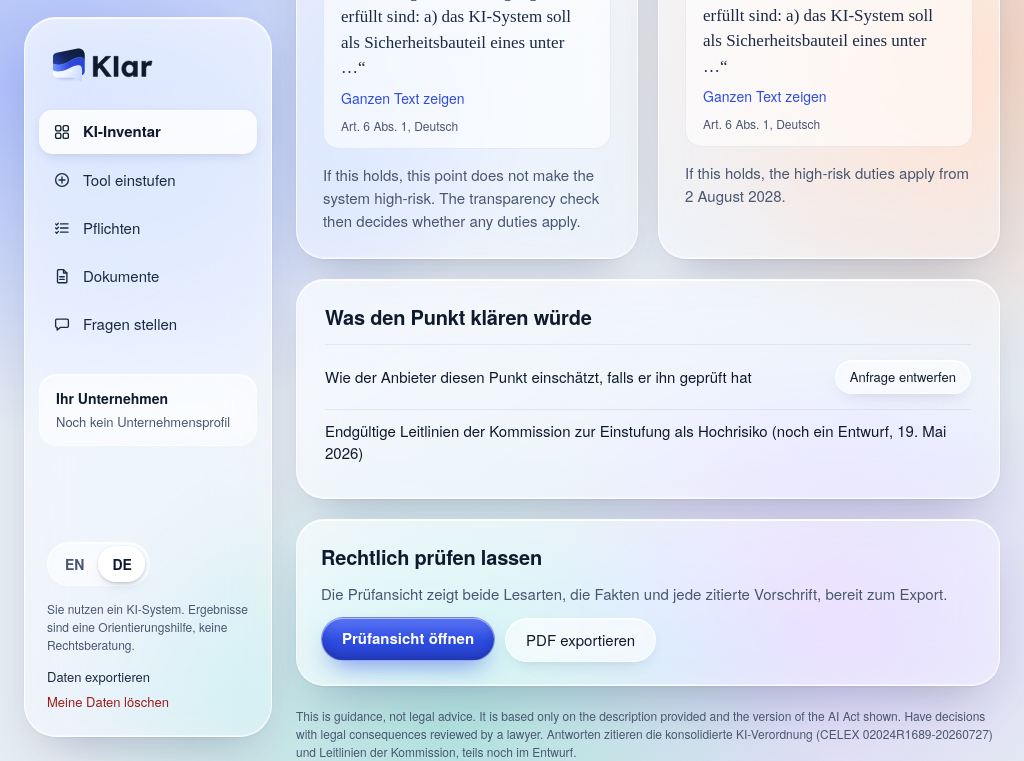
A legally ambiguous result (de) › says when the browser refuses to copy the request
(page scrolled)
Click the button "Anfrage entwerfen" at coordinates (903, 377), box left=835, top=360, right=971, bottom=394
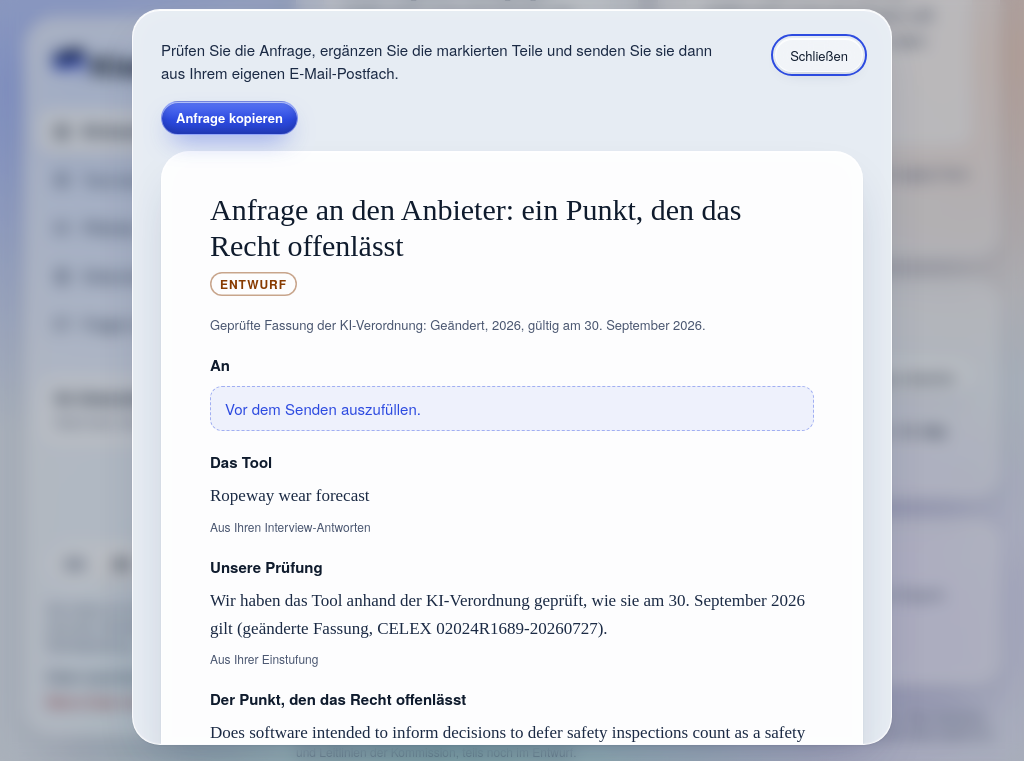
Click the button "Anfrage kopieren" at coordinates (229, 118), box left=161, top=100, right=298, bottom=134
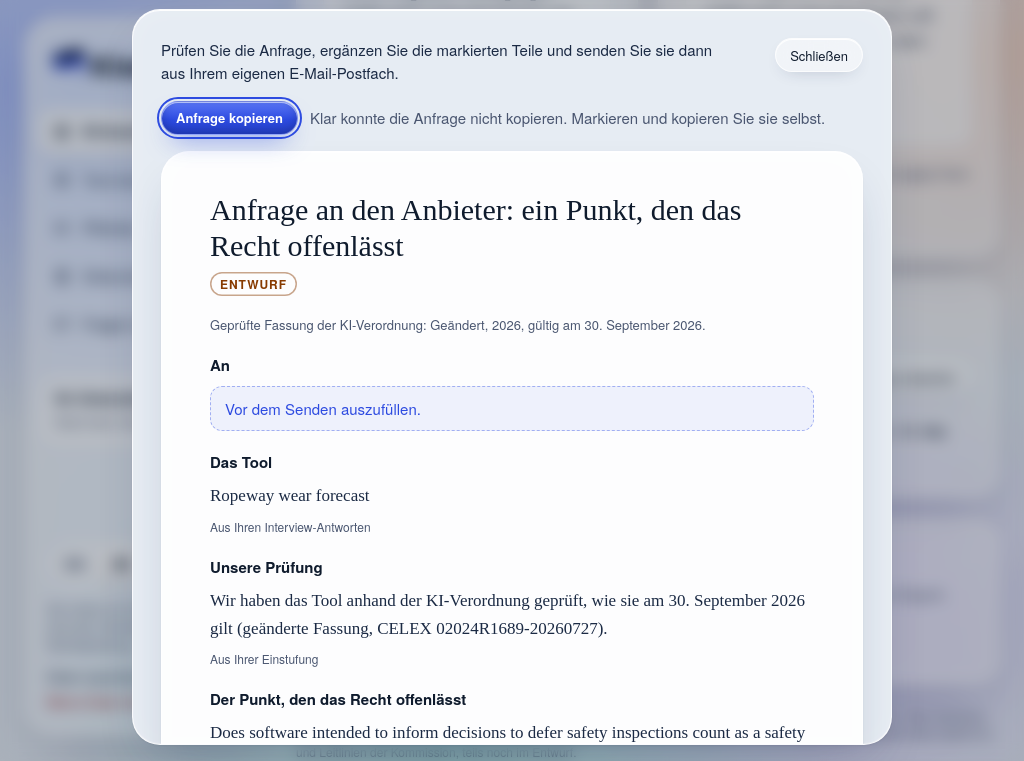
expect the text "Klar konnte die Anfrage nicht kopieren. Markieren und kopieren Sie sie selbst." is shown: met, box left=310, top=106, right=825, bottom=129
